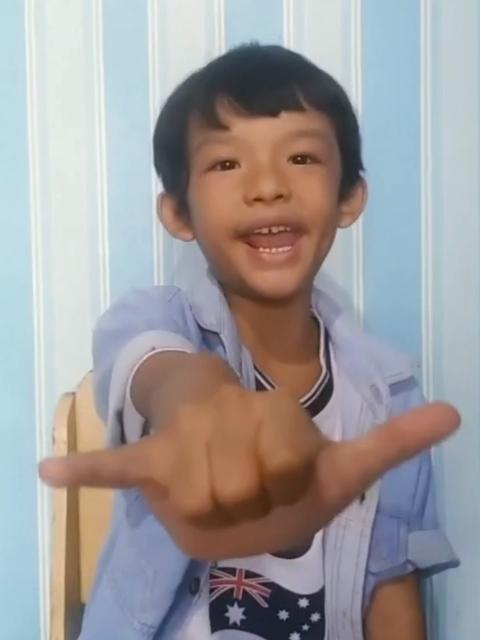Y: (27, 370, 472, 560)
